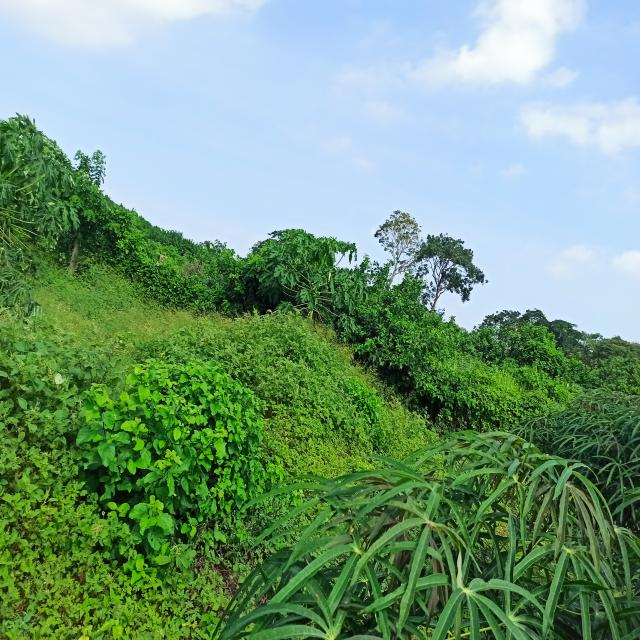Maleza: (3, 332, 218, 631), (9, 178, 239, 384), (76, 348, 262, 532), (191, 314, 417, 441), (378, 287, 545, 417)
Mosca: (309, 588, 325, 609), (299, 581, 310, 597), (337, 506, 350, 519), (563, 491, 576, 503), (357, 485, 367, 499), (344, 526, 357, 536), (455, 495, 468, 505)
